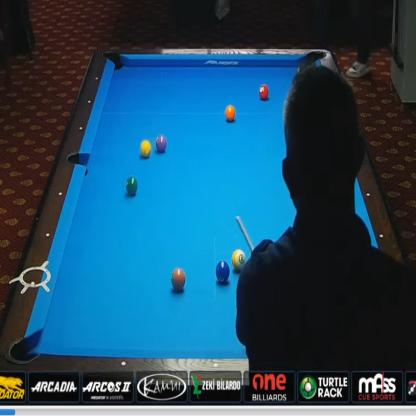Ball: (215, 260, 230, 284), (171, 268, 186, 291), (232, 249, 246, 272), (126, 176, 138, 196), (155, 135, 167, 152), (140, 140, 151, 158), (258, 84, 269, 100), (225, 105, 236, 121)
